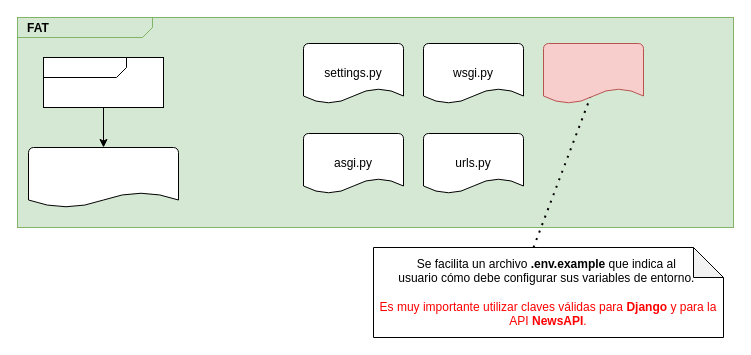
The diagram is 751 pixels wide and 355 high, and some of its shapes have lost their labels. The shapes that lost their labels are listed below. From the top down, each one's centre as x and y in pixels, then its label:
the point at 103,82: routers
the point at 593,73: .env
the point at 103,177: router_bases_datos.py
